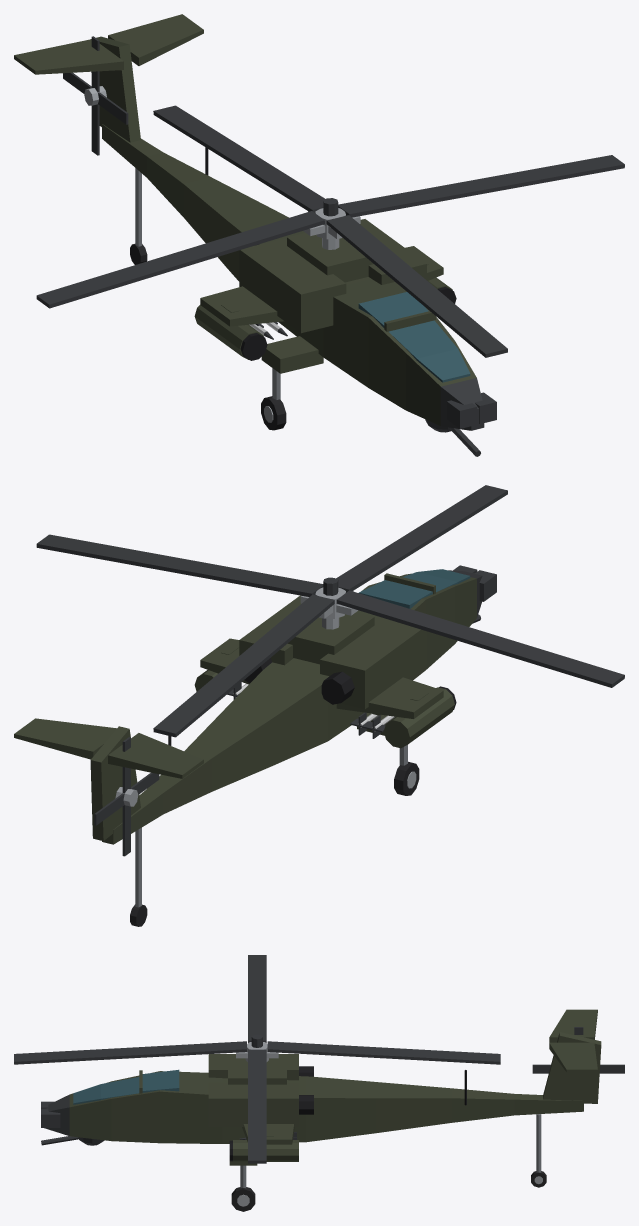
The model's file is Unit_AttackHeli.obj.
The picture shows the model from 3 angles, top to bottom: view 1: azimuth 30°, elevation 25°; view 2: azimuth 150°, elevation 25°; view 3: azimuth 270°, elevation 25°; orthographic projection. The views are drawn at different scales.
Size of the model in its own units: 14.01 by 4.88 by 17.58.
